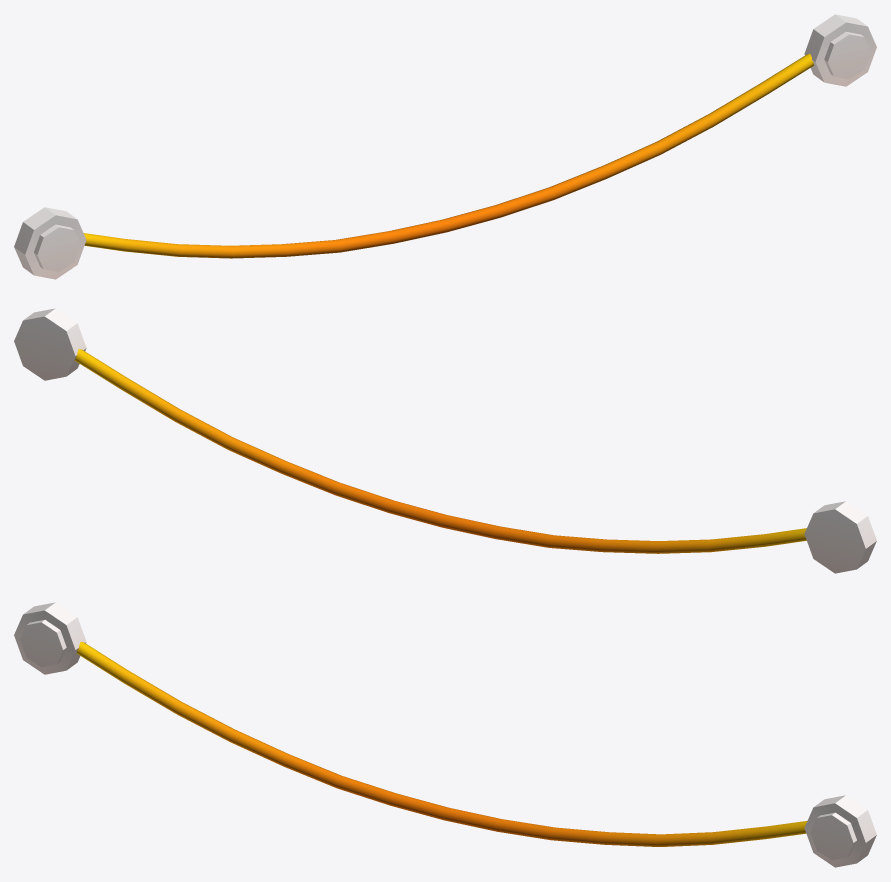
The picture shows the model from 3 angles, top to bottom: view 1: azimuth 30°, elevation 25°; view 2: azimuth 150°, elevation 25°; view 3: azimuth 330°, elevation 25°; orthographic projection.
Parts seen in each view (by area): view 1: lv7; view 2: lv7; view 3: lv7.
Boxes of the visible parts, bbox=[...] form: lv7: bbox=[14, 14, 876, 279]; lv7: bbox=[14, 308, 876, 573]; lv7: bbox=[14, 602, 876, 867].
Bounding box in the file's own units: 59.12 × 7.84 × 1.71.
1 material, 1 textured.
